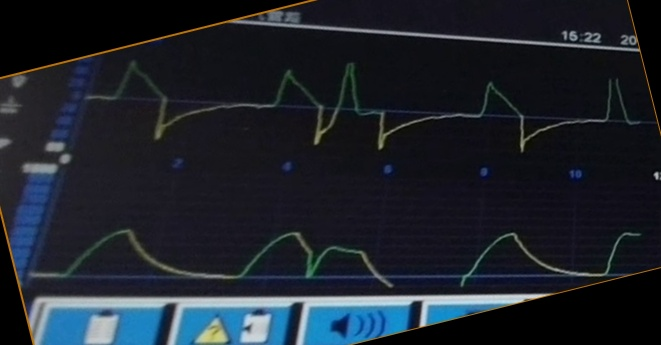Double_Triggering Flow: (112, 51, 630, 155)
Double_Triggering Volume: (57, 202, 636, 289)
